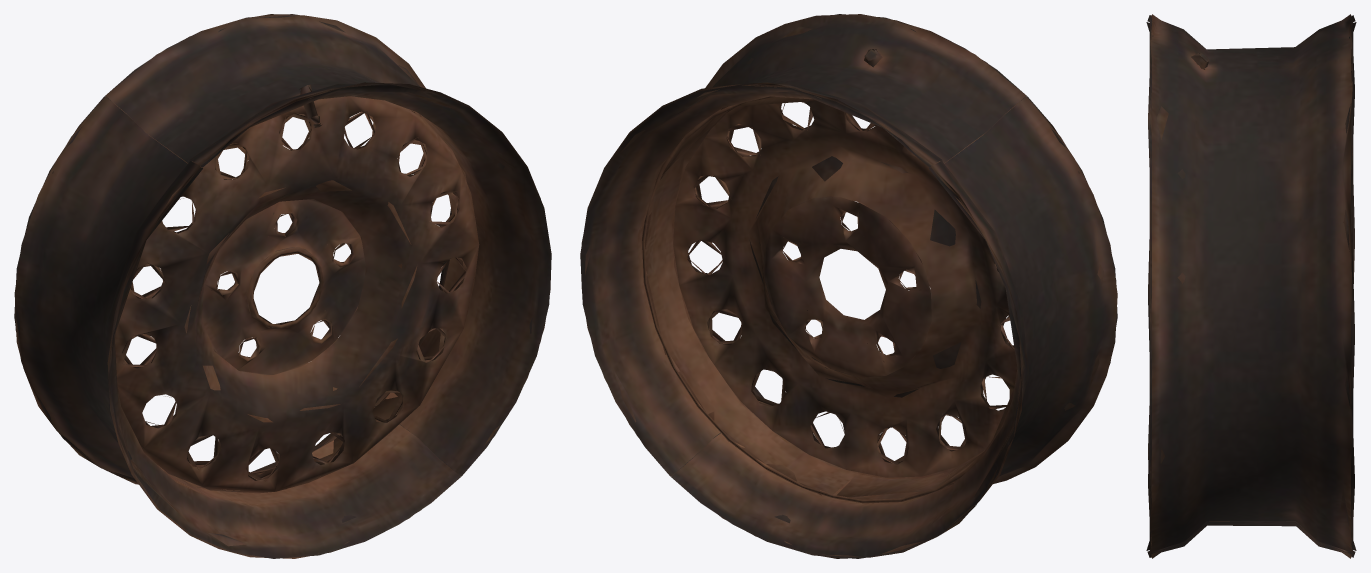
Rendered from rusted_wheel_rim_01.gltf.
3 views of the same model, side by side, from view 1: azimuth 30°, elevation 25°; view 2: azimuth 150°, elevation 25°; view 3: azimuth 270°, elevation 25° (orthographic). The views are drawn at different scales.
Parts seen in each view (by area): view 1: rusted_wheel_rim_01; view 2: rusted_wheel_rim_01; view 3: rusted_wheel_rim_01.
Boxes of the visible parts, <box> form: rusted_wheel_rim_01: <box>14,14,551,558</box>; rusted_wheel_rim_01: <box>580,14,1117,558</box>; rusted_wheel_rim_01: <box>1146,14,1356,558</box>.
Bounding box in the file's own units: 0.4036 × 0.4018 × 0.1555.
Materials: 1 (1 with a texture image).
